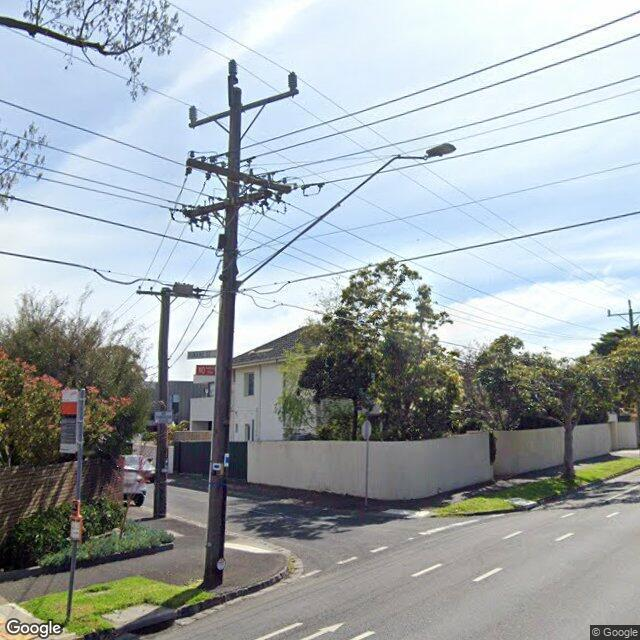HV-transmission: (190, 59, 297, 120), (608, 300, 631, 314)
crossarm: (190, 89, 300, 127), (186, 158, 291, 194), (183, 190, 273, 218), (137, 291, 199, 298), (607, 312, 640, 316)
streetlight: (234, 142, 456, 292)
timber-pole: (204, 88, 242, 588), (154, 287, 170, 518), (629, 309, 633, 330)
